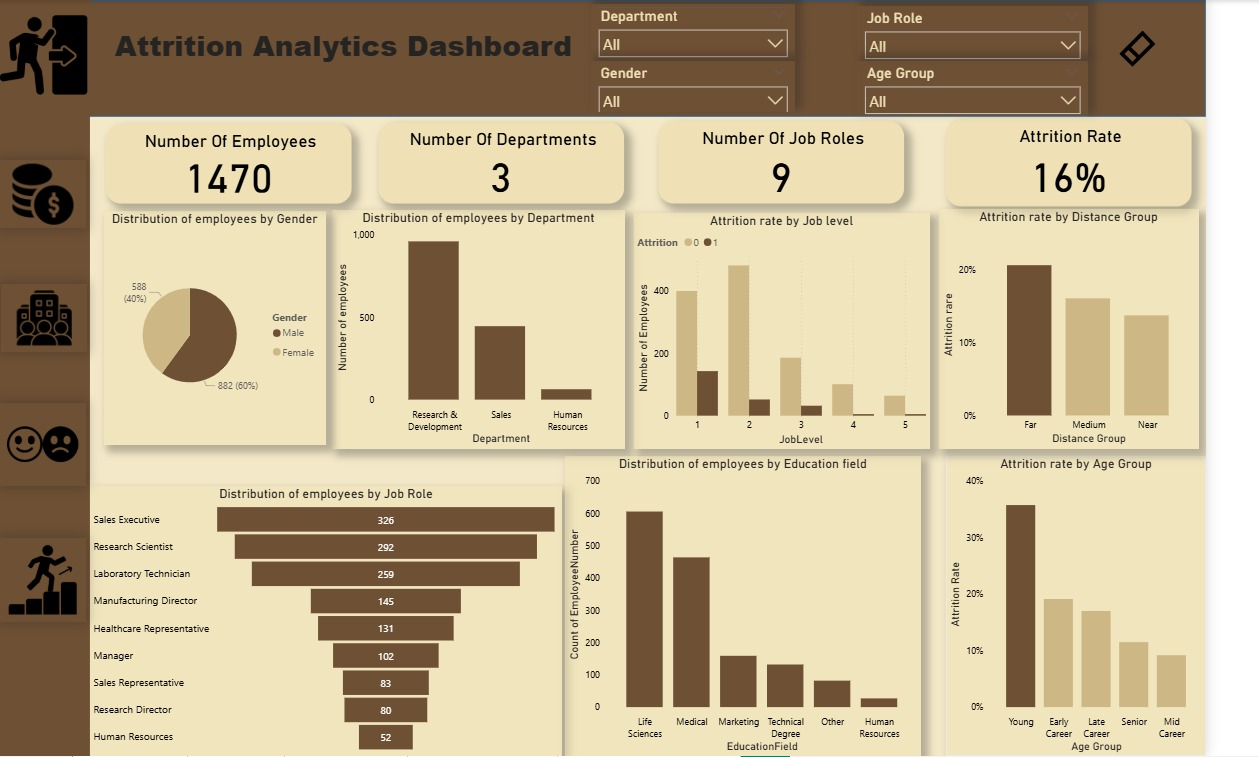

The page's visual inventory and layout, read from the dashboard file:
{"tool":"powerbi","page":{"name":"Overview","canvas":[1600,1000],"ordinal":0},"visuals":[{"type":"card","title":"Number Of Employees","fields":{"Values":["Count(HR-Employee-Attrition.EmployeeNumber)"]},"box":[145.8,164.2,325.1,105.6],"z":0},{"type":"card","title":"Number Of Departments","fields":{"Values":["Count(HR-Employee-Attrition.Department)"]},"box":[506,162.5,325.1,107.2],"z":1000},{"type":"card","title":"Number Of Job Roles","fields":{"Values":["Count(HR-Employee-Attrition.JobRole)"]},"box":[876.3,160.9,325.1,108.9],"z":2000},{"type":"card","title":"Attrition Rate","fields":{"Values":["measures (2).attrition percentage"]},"box":[1256.7,157.5,325.1,115.6],"z":3000},{"type":"clusteredColumnChart","title":"Distribution of employees by Department","fields":{"Y":["CountNonNull(HR-Employee-Attrition.EmployeeNumber)"],"Category":["HR-Employee-Attrition.Department"]},"box":[444.8,277.8,386.9,315.8],"z":4000},{"type":"funnel","title":"Distribution of employees by Job Role","fields":{"Category":["HR-Employee-Attrition.JobRole"],"Y":["CountNonNull(HR-Employee-Attrition.EmployeeNumber)"]},"box":[124,643.4,625,356.9],"z":5000},{"type":"clusteredColumnChart","title":"Attrition rate by Job level","fields":{"Category":["HR-Employee-Attrition.JobLevel"],"Y":["CountNonNull(HR-Employee-Attrition.EmployeeNumber)"],"Series":["HR-Employee-Attrition.Attrition"]},"box":[843.3,281.1,391.9,312.5],"z":6000},{"type":"pieChart","title":"Distribution of employees by Gender","fields":{"Y":["CountNonNull(HR-Employee-Attrition.EmployeeNumber)"],"Category":["HR-Employee-Attrition.Gender"]},"box":[142.2,279.4,294.3,309.2],"z":7000},{"type":"clusteredColumnChart","title":"Attrition rate by Age Group","fields":{"Category":["HR-Employee-Attrition.Age Group"],"Y":["measures (2).Attrition % by age"]},"box":[1256.6,603.5,343.9,396.8],"z":8000},{"type":"clusteredColumnChart","title":"Attrition rate by Distance Group","fields":{"Category":["HR-Employee-Attrition.Distance Group"],"Y":["measures (2).Attrition % by distance"]},"box":[1246.7,276.1,343.9,317.5],"z":9000},{"type":"clusteredColumnChart","title":"Distribution of employees by Education field","fields":{"Category":["HR-Employee-Attrition.EducationField"],"Y":["CountNonNull(HR-Employee-Attrition.EmployeeNumber)"]},"box":[752.3,603.5,471.2,396.8],"z":10000},{"type":"shape","box":[0,0,1600.2,154.2],"z":11000},{"type":"shape","box":[0,0,124,1000.3],"z":12000},{"type":"textbox","box":[152.5,28.5,635.1,73.7],"z":13000},{"type":"image","box":[0,8.4,125.7,129],"z":14000},{"type":"slicer","fields":{"Values":["HR-Employee-Attrition.Department"]},"box":[787.5,5,269.8,72.1],"z":15000},{"type":"slicer","fields":{"Values":["HR-Employee-Attrition.Gender"]},"box":[787.5,80.4,269.8,67],"z":16000},{"type":"slicer","fields":{"Values":["HR-Employee-Attrition.JobRole"]},"box":[1139.4,8.4,305,72.1],"z":17000},{"type":"slicer","fields":{"Values":["HR-Employee-Attrition.Age Group"]},"box":[1139.4,80.4,305,73.7],"z":18000},{"type":"actionButton","box":[1472.9,28.5,83.8,73.7],"z":19000},{"type":"image","box":[6.7,375.3,113.9,90.5],"z":20000},{"type":"image","box":[5,532.8,113.9,110.6],"z":21000},{"type":"image","box":[5,710.5,113.9,112.3],"z":22000},{"type":"image","box":[5,211.1,113.9,90.5],"z":23000}]}

Visuals, with their boxes on the page's 1600x1000 design canvas (x1, y1, x2, y2). These are canvas units, not pixel positions in the 1259x757 screenshot, which may show the page scaled, cropped or inside an application window:
"Number Of Employees" card: bbox=[146, 164, 471, 270]
"Number Of Departments" card: bbox=[506, 162, 831, 270]
"Number Of Job Roles" card: bbox=[876, 161, 1201, 270]
"Attrition Rate" card: bbox=[1257, 158, 1582, 273]
"Distribution of employees by Department" clusteredColumnChart: bbox=[445, 278, 832, 594]
"Distribution of employees by Job Role" funnel: bbox=[124, 643, 749, 1000]
"Attrition rate by Job level" clusteredColumnChart: bbox=[843, 281, 1235, 594]
"Distribution of employees by Gender" pieChart: bbox=[142, 279, 436, 589]
"Attrition rate by Age Group" clusteredColumnChart: bbox=[1257, 604, 1600, 1000]
"Attrition rate by Distance Group" clusteredColumnChart: bbox=[1247, 276, 1591, 594]
"Distribution of employees by Education field" clusteredColumnChart: bbox=[752, 604, 1224, 1000]
shape: bbox=[0, 0, 1600, 154]
shape: bbox=[0, 0, 124, 1000]
textbox: bbox=[152, 28, 788, 102]
image: bbox=[0, 8, 126, 137]
slicer - HR-Employee-Attrition.Department: bbox=[788, 5, 1057, 77]
slicer - HR-Employee-Attrition.Gender: bbox=[788, 80, 1057, 147]
slicer - HR-Employee-Attrition.JobRole: bbox=[1139, 8, 1444, 80]
slicer - HR-Employee-Attrition.Age Group: bbox=[1139, 80, 1444, 154]
actionButton: bbox=[1473, 28, 1557, 102]
image: bbox=[7, 375, 121, 466]
image: bbox=[5, 533, 119, 643]
image: bbox=[5, 710, 119, 823]
image: bbox=[5, 211, 119, 302]
